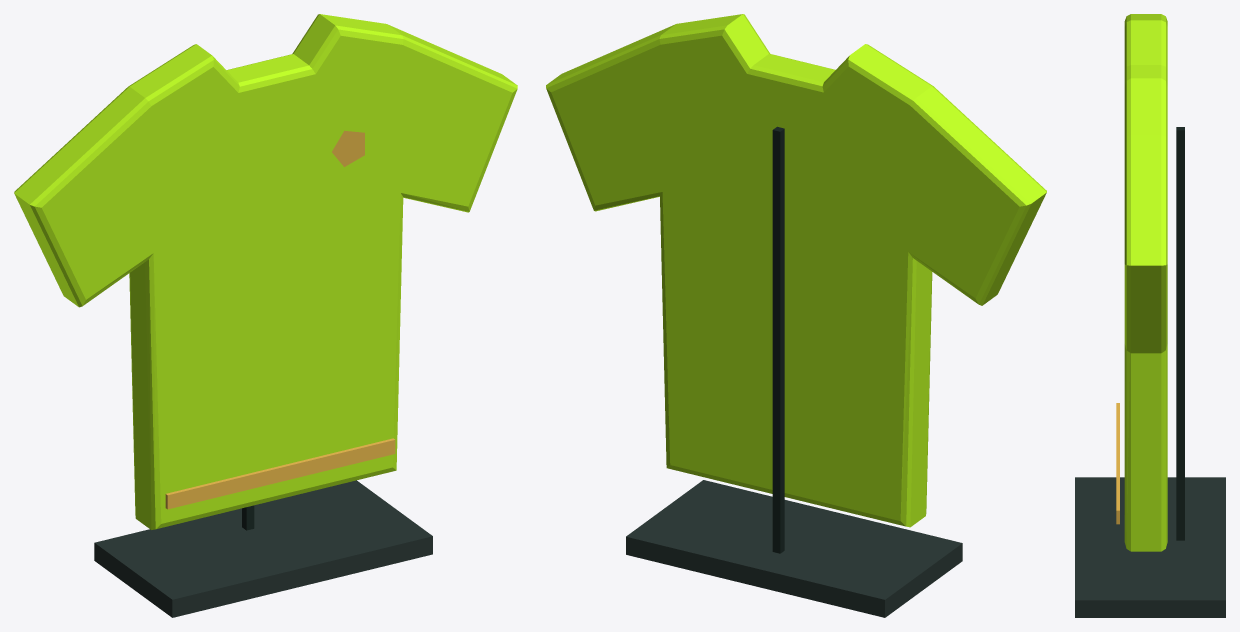
The model's file is kit-classic.glb.
The picture shows the model from 3 angles, left to right: view 1: azimuth 30°, elevation 25°; view 2: azimuth 150°, elevation 25°; view 3: azimuth 270°, elevation 25°; orthographic projection. The views are drawn at different scales.
Visible parts, largest first — view 1: kit; view 2: kit; view 3: kit.
Boxes of the visible parts, x1=… form: kit: x1=14, y1=14, x2=517, y2=617; kit: x1=546, y1=14, x2=1046, y2=617; kit: x1=1075, y1=14, x2=1225, y2=617.
Size of the model in its own units: 2.53 by 2.6 by 0.7.
